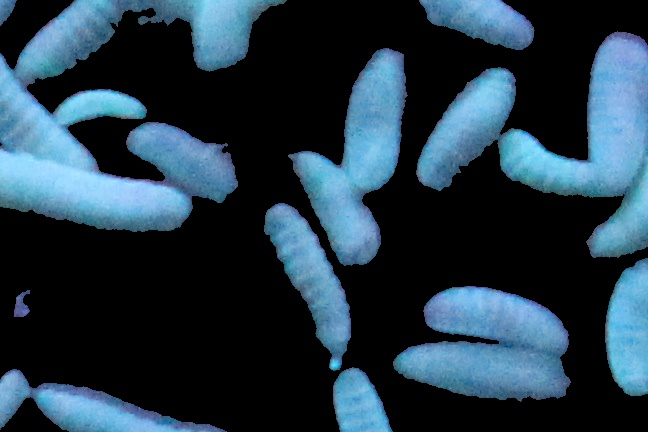larvae: (1, 168, 191, 254), (262, 203, 347, 369), (413, 68, 520, 190), (286, 150, 382, 275), (1, 49, 97, 173), (393, 343, 568, 408), (582, 31, 646, 197), (28, 382, 226, 432), (422, 285, 573, 348), (128, 126, 238, 206), (187, 1, 290, 85), (346, 49, 403, 188), (14, 1, 119, 76), (600, 257, 648, 405), (499, 125, 591, 197), (413, 1, 536, 54), (325, 363, 392, 432), (55, 89, 143, 119)
